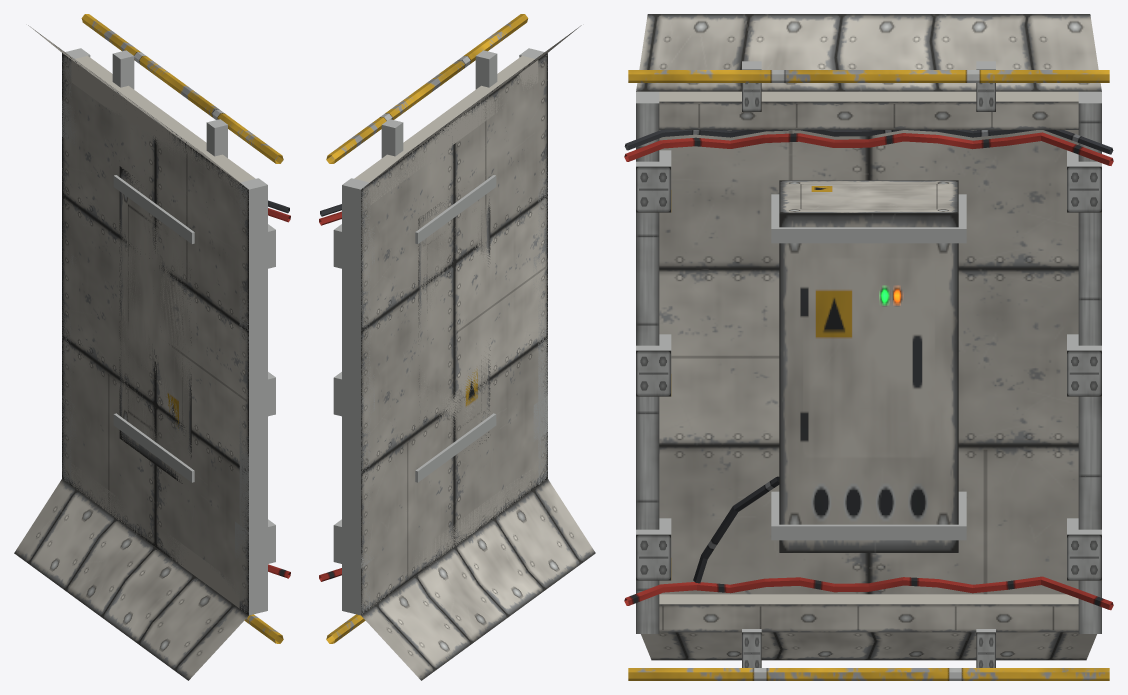
File: cen_wall_locker.fbx
The picture shows the model from 3 angles, left to right: view 1: azimuth 30°, elevation 25°; view 2: azimuth 150°, elevation 25°; view 3: azimuth 270°, elevation 25°; orthographic projection. The views are drawn at different scales.
Visible parts, largest first — view 1: cen_wall_locker; view 2: cen_wall_locker; view 3: cen_wall_locker.
Boxes of the visible parts, x1,y1,x2,y2 form: cen_wall_locker: (14,14,290,680); cen_wall_locker: (319,14,595,680); cen_wall_locker: (624,14,1113,680).
Bounding box in the file's own units: 0.41 × 1.85 × 1.25.
Materials: 1 (1 with a texture image).
